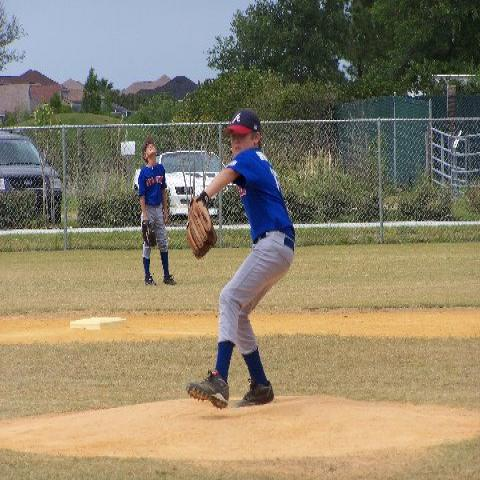car: (130, 147, 228, 220), (0, 130, 63, 227)
